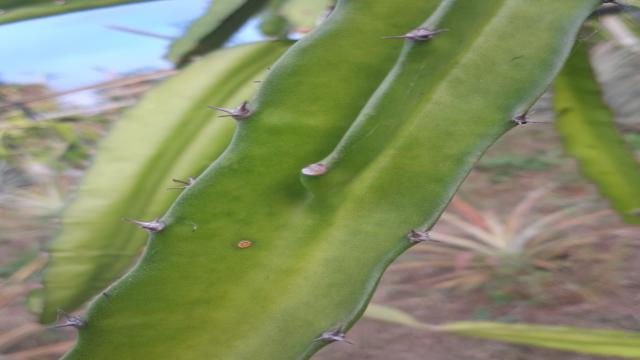stemcanker: (230, 236, 254, 252)
